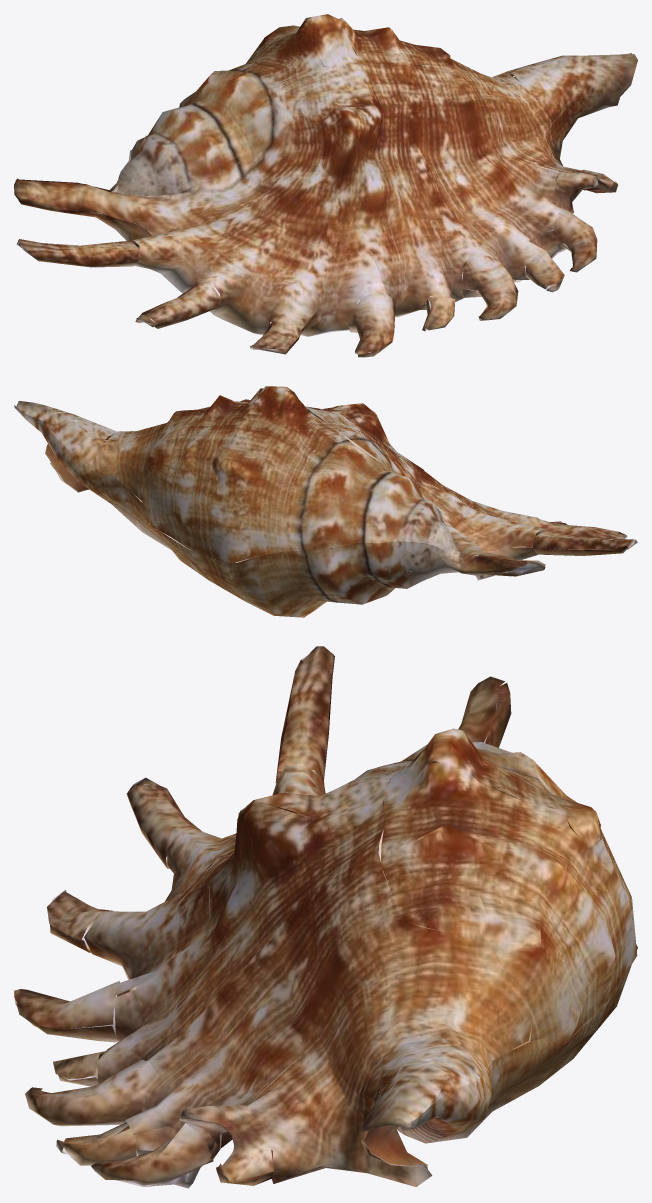
The model's file is lambis_shell.glb.
3 renders of one model, top to bottom at view 1: azimuth 30°, elevation 25°; view 2: azimuth 150°, elevation 25°; view 3: azimuth 270°, elevation 25°, orthographic. The views are drawn at different scales.
Visible parts, largest first — view 1: lambis_shell; view 2: lambis_shell; view 3: lambis_shell.
Part boxes in pixels (x1,y1,x2,y2): lambis_shell: [14, 14, 637, 357]; lambis_shell: [14, 386, 637, 617]; lambis_shell: [14, 646, 637, 1188].
Bounding box in the file's own units: 0.1391 × 0.0464 × 0.0745.
1 material, 1 textured.
